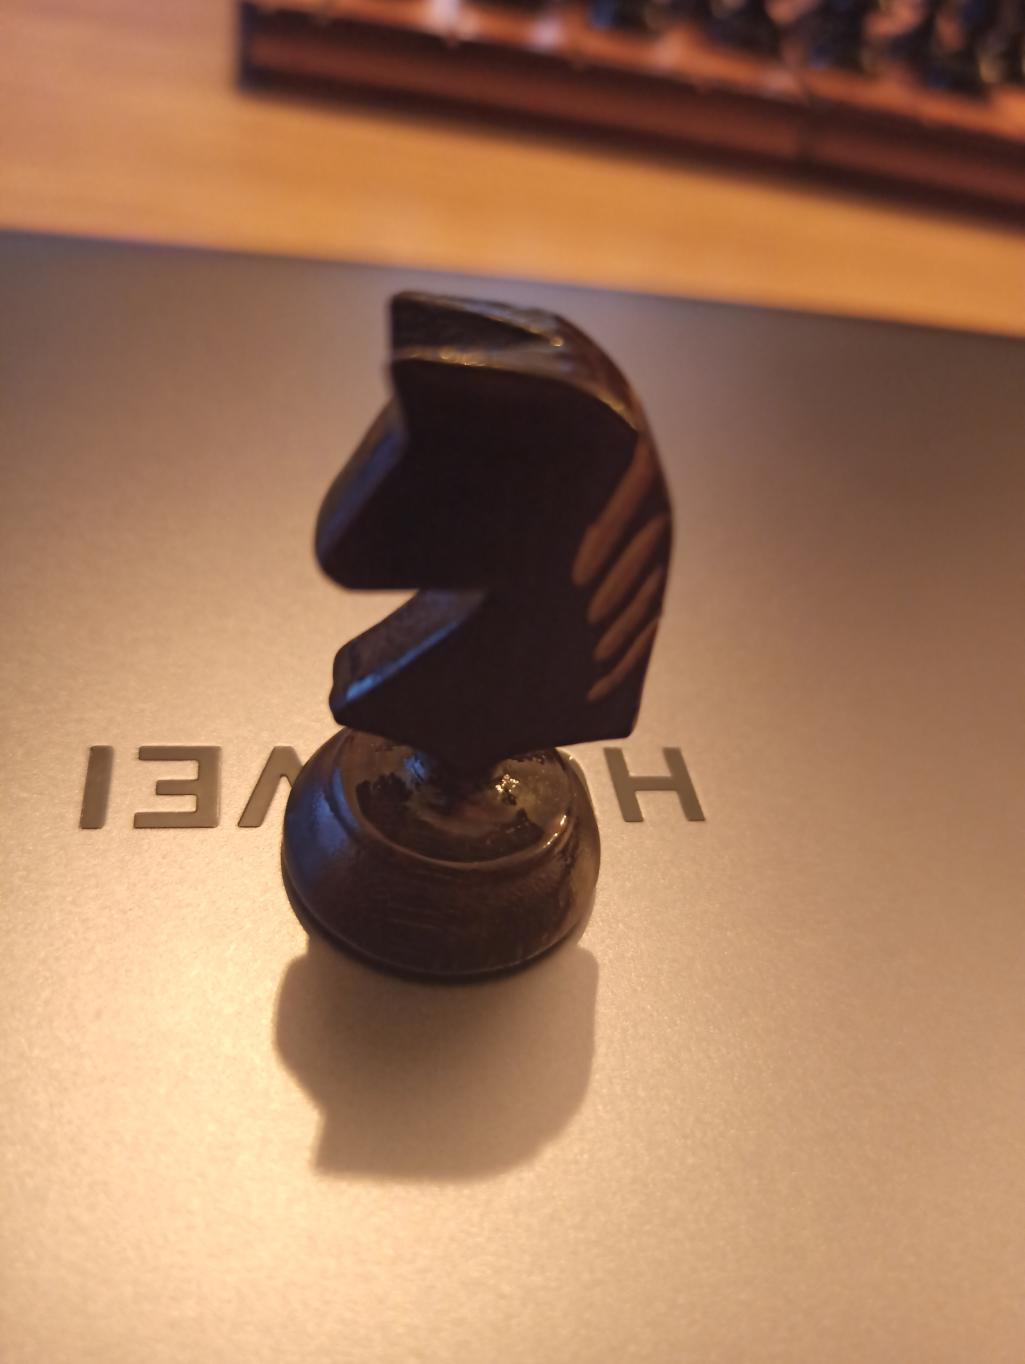bknight: (289, 289, 668, 985)
